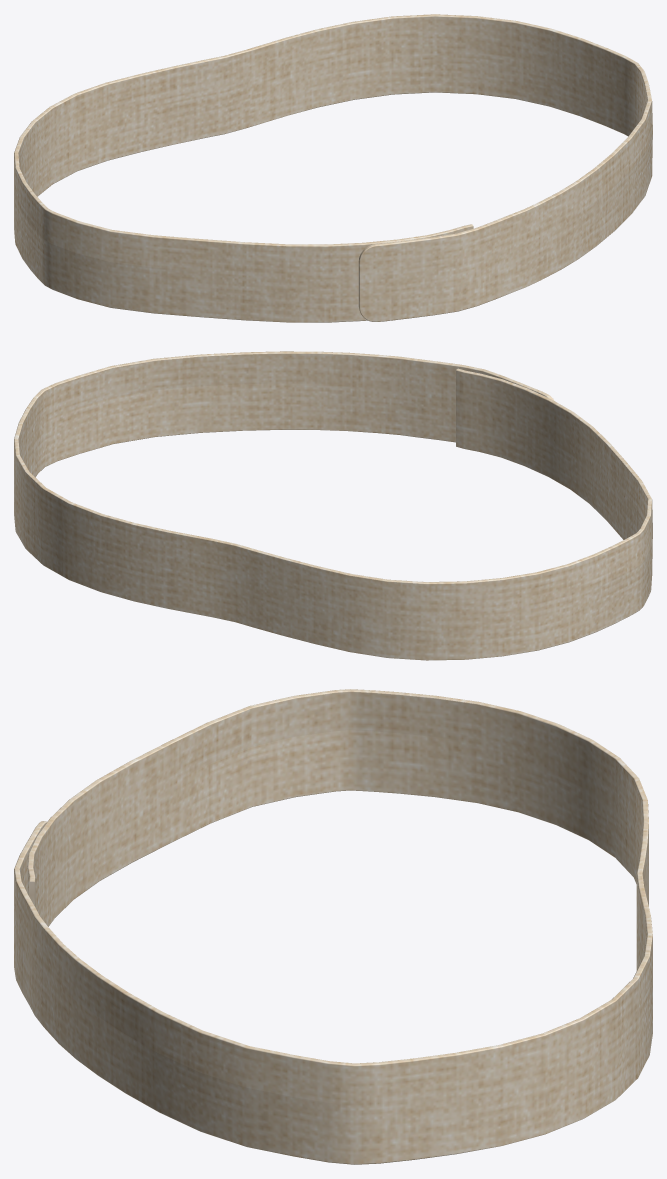
Rendered from 5cm standard_button_.glb.
The picture shows the model from 3 angles, top to bottom: view 1: azimuth 30°, elevation 25°; view 2: azimuth 150°, elevation 25°; view 3: azimuth 270°, elevation 25°; orthographic projection. The views are drawn at different scales.
Visible parts, largest first — view 1: standard_button_5cm; view 2: standard_button_5cm; view 3: standard_button_5cm.
Part boxes in pixels (x1,y1,x2,y2): standard_button_5cm: (14, 14, 652, 322); standard_button_5cm: (14, 351, 652, 660); standard_button_5cm: (14, 689, 652, 1164).
Size of the model in its own units: 0.047 by 0.0058 by 0.0336.
Materials: 1 (1 with a texture image).
